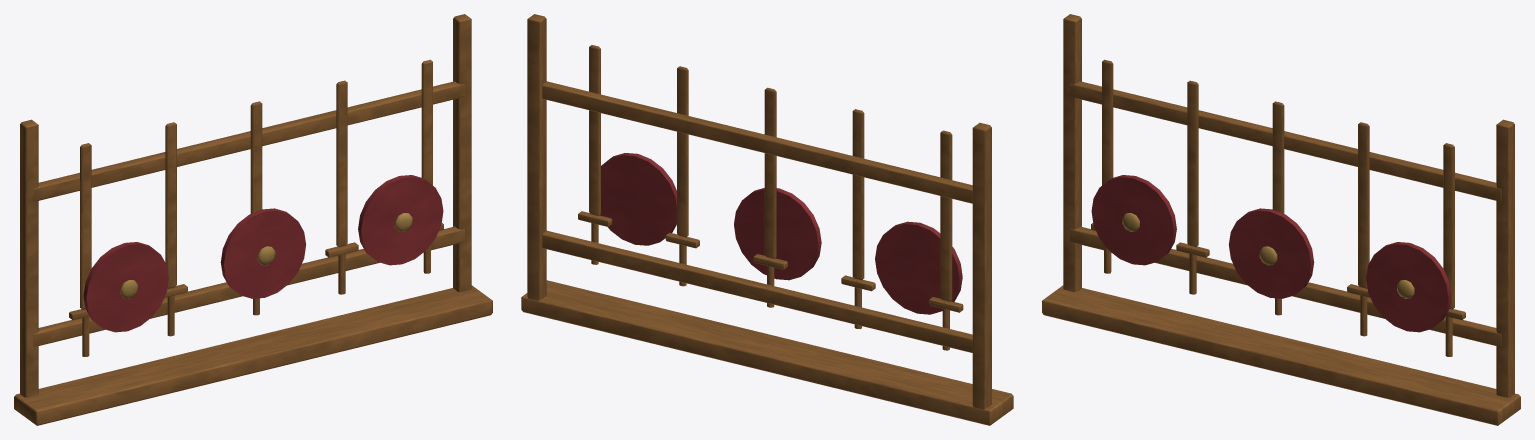
File: Furn_WeaponRack.fbx
The picture shows the model from 3 angles, left to right: view 1: azimuth 30°, elevation 25°; view 2: azimuth 150°, elevation 25°; view 3: azimuth 330°, elevation 25°; orthographic projection. The views are drawn at different scales.
Parts seen in each view (by area): view 1: Furn_WeaponRack_Mesh; view 2: Furn_WeaponRack_Mesh; view 3: Furn_WeaponRack_Mesh.
Part boxes in pixels (bbox=[...]): Furn_WeaponRack_Mesh: bbox=[14, 14, 492, 425]; Furn_WeaponRack_Mesh: bbox=[521, 14, 1013, 425]; Furn_WeaponRack_Mesh: bbox=[1042, 14, 1520, 425].
Bounding box in the file's own units: 3 × 1.8 × 0.3.
Materials: 3 (3 with a texture image).
